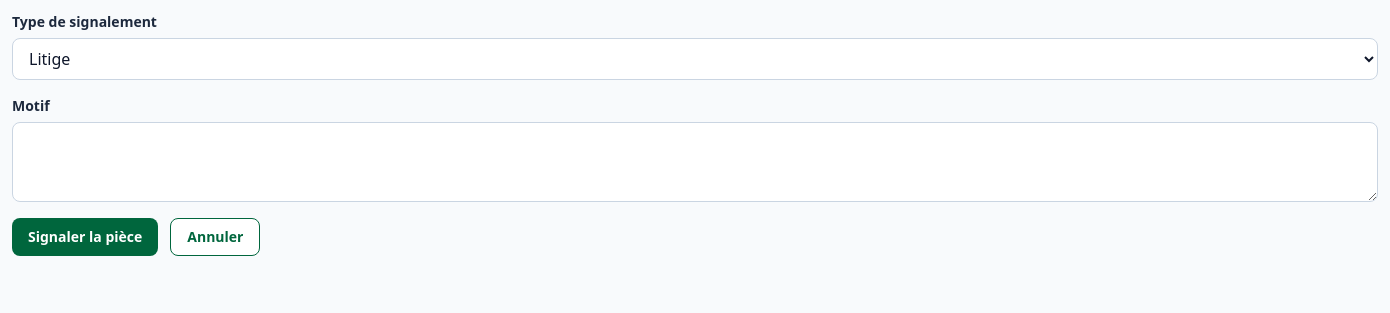
Test: SignalerForm › bloque la soumission et affiche un message si le motif est vide
Click the button "Signaler la pièce". click: (85, 237)
box: [12,218,158,256]
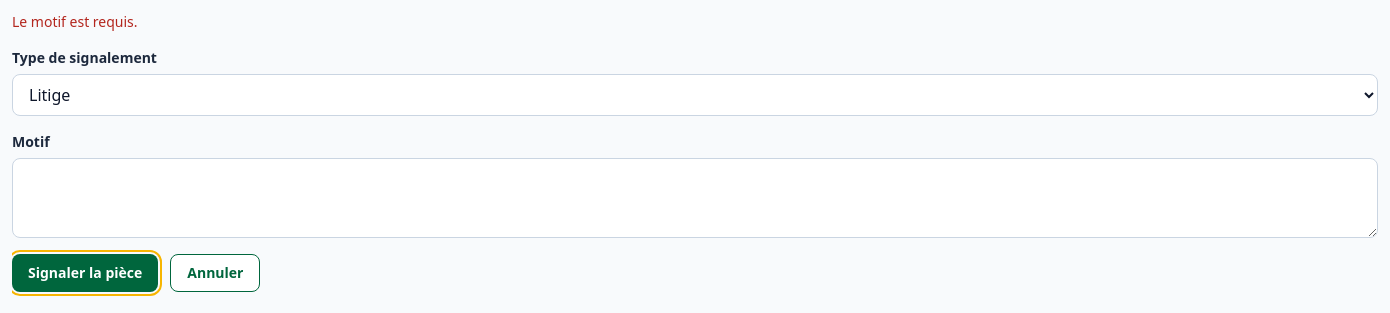
Check: the text "Le motif est requis." is shown, box [12,12,138,31]
